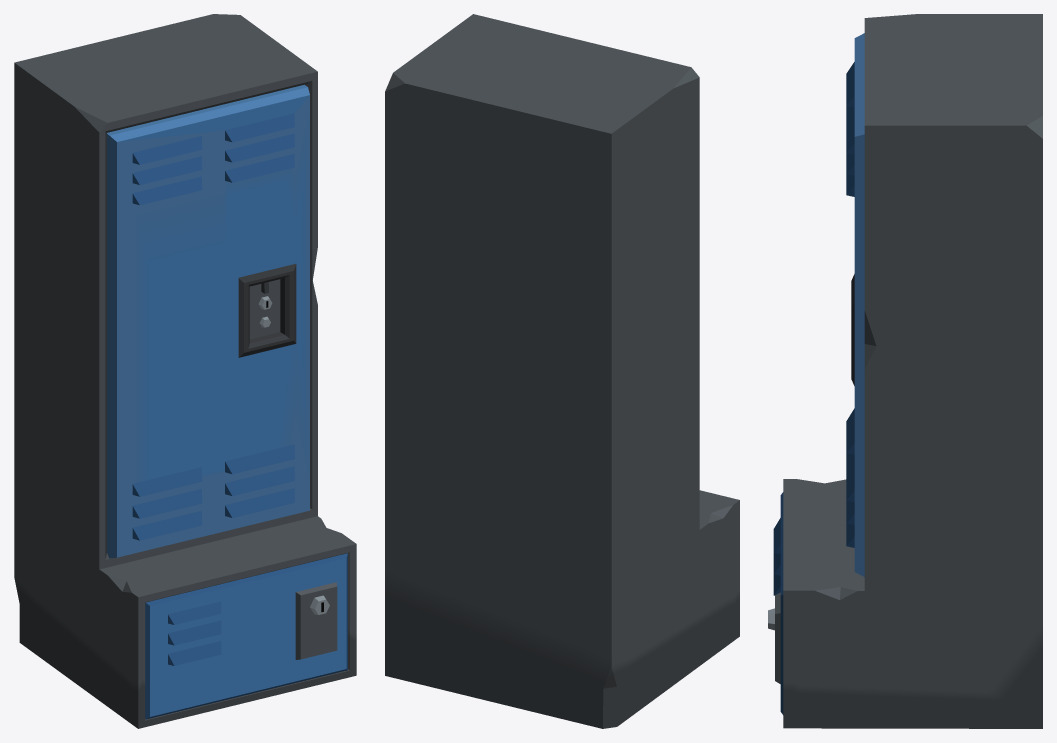
File: SM_Prop_Weapon_Locker_02.fbx
3 renders of one model, left to right at view 1: azimuth 30°, elevation 25°; view 2: azimuth 150°, elevation 25°; view 3: azimuth 270°, elevation 25°, orthographic. The views are drawn at different scales.
Visible parts, largest first — view 1: SM_Prop_Weapon_Locker_02; view 2: SM_Prop_Weapon_Locker_02; view 3: SM_Prop_Weapon_Locker_02.
Part boxes in pixels (left/top/right/bottom): SM_Prop_Weapon_Locker_02: left=14, top=14, right=356, bottom=728; SM_Prop_Weapon_Locker_02: left=385, top=14, right=739, bottom=728; SM_Prop_Weapon_Locker_02: left=768, top=14, right=1042, bottom=728.
Bounding box in the file's own units: 83.33 × 210 × 86.67.
